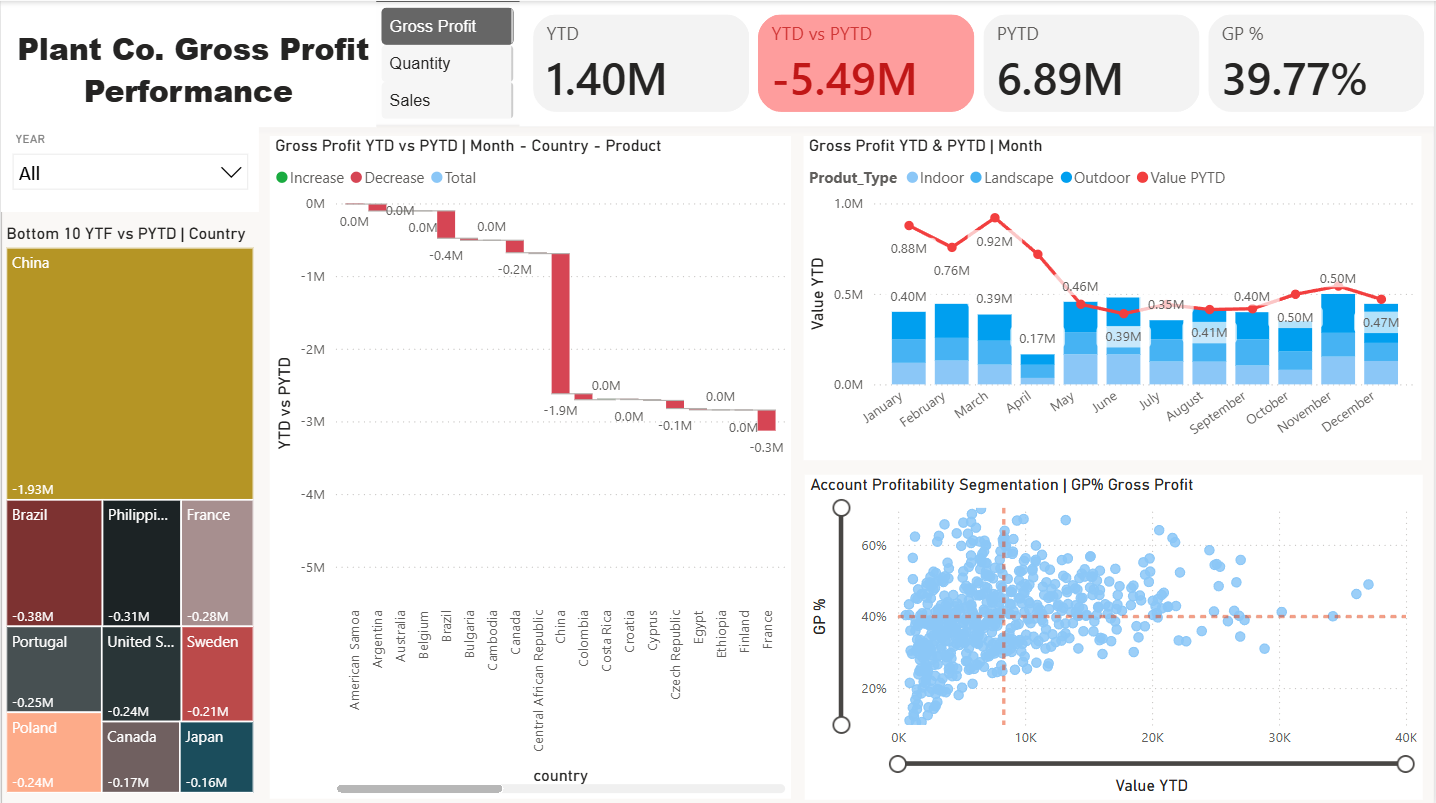

What the dashboard file says about the page in this screenshot:
{"tool":"powerbi","page":{"name":"Performance Report","canvas":[1280,720],"ordinal":0},"visuals":[{"type":"cardVisual","fields":{"Data":["_Measures.S_YTD","_Measures.YTD vs PYTD","_Measures.S_PYTD","_Measures.GP %"]},"box":[463.3,0,823.9,112],"z":0},{"type":"advancedSlicerVisual","fields":{"Values":["Slc_Values.Values"]},"box":[334.9,1,128.4,112],"z":1000},{"type":"slicer","fields":{"Values":["Dim_Date.Date.Variation.Date Hierarchy.Year"]},"box":[0,111.2,230.7,76.9],"z":2000},{"type":"treemap","title":"Bottom 10 YTF vs PYTD | Country","fields":{"Group":["Dim_Account.country"],"Values":["_Measures.YTD vs PYTD"]},"box":[0,199.1,230.7,513.6],"z":3000},{"type":"waterfallChart","fields":{"Y":["_Measures.YTD vs PYTD"],"Category":["Dim_Date.Date.Variation.Date Hierarchy.Month","Dim_Account.country","Dim_Product.Produt_Type","Dim_Product.Product_Name"]},"box":[240.3,120.9,465.6,591.9],"z":4000},{"type":"lineStackedColumnComboChart","fields":{"Y":["_Measures.S_YTD"],"Y2":["_Measures.S_PYTD"],"Category":["Dim_Date.Date.Variation.Date Hierarchy.Quarter","Dim_Date.Date.Variation.Date Hierarchy.Month"],"Series":["Dim_Product.Produt_Type"]},"box":[716.9,120.9,552.1,289.8],"z":5000},{"type":"scatterChart","fields":{"Y":["_Measures.GP %"],"X":["_Measures.S_YTD"],"Category":["Dim_Account.Account"]},"box":[718.1,423.2,551.7,289.7],"z":6000},{"type":"card","fields":{"Values":["_Measures._Report Title"]},"box":[0,0,334.9,113],"z":7000}]}

Visuals, with their boxes in screenshot pixels (x1, y1, x2, y2), scaled from the page's 1280x720 canvas onto the 1436x803 screenshot:
cardVisual - _Measures.S_YTD x _Measures.YTD vs PYTD: rect(520, 0, 1435, 125)
advancedSlicerVisual - Slc_Values.Values: rect(376, 1, 520, 126)
slicer - Dim_Date.Date.Variation.Date Hierarchy.Year: rect(0, 124, 259, 210)
"Bottom 10 YTF vs PYTD | Country" treemap: rect(0, 222, 259, 795)
waterfallChart - _Measures.YTD vs PYTD x Dim_Date.Date.Variation.Date Hierarchy.Month: rect(270, 135, 792, 795)
lineStackedColumnComboChart - _Measures.S_YTD x _Measures.S_PYTD: rect(804, 135, 1424, 458)
scatterChart - _Measures.GP % x _Measures.S_YTD: rect(806, 472, 1425, 795)
card - _Measures._Report Title: rect(0, 0, 376, 126)
